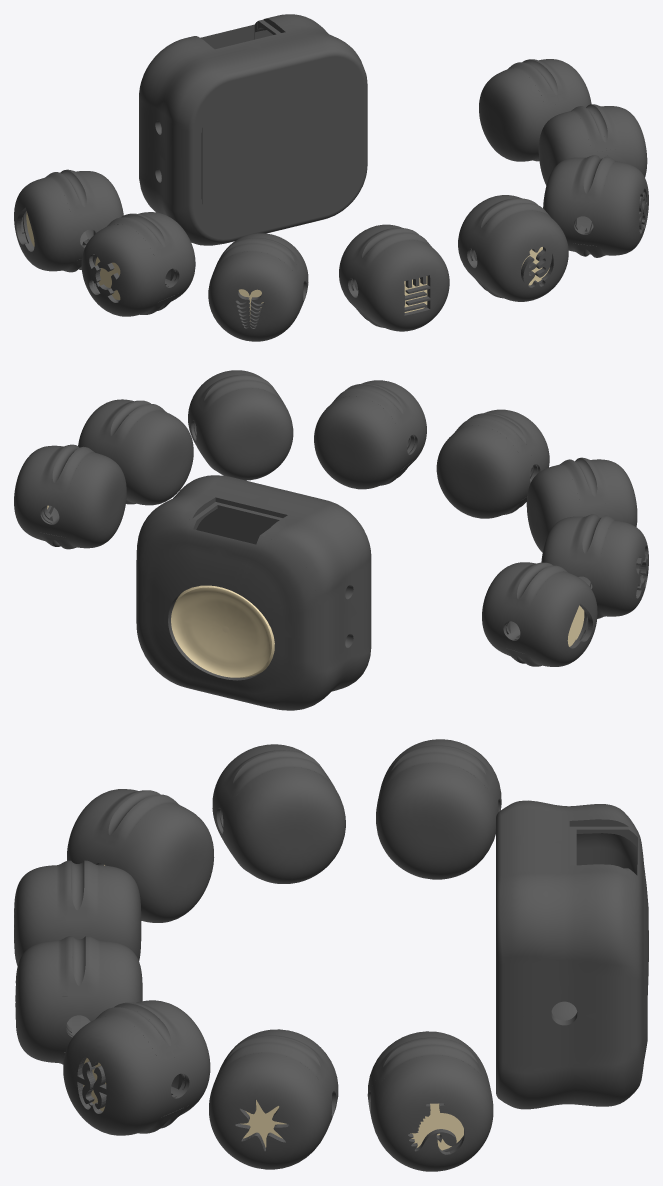
The model's file is bracelet_threaded.glb.
3 views of the same model, one above another, from view 1: azimuth 30°, elevation 25°; view 2: azimuth 150°, elevation 25°; view 3: azimuth 270°, elevation 25° (orthographic). The views are drawn at different scales.
Visible parts, largest first — view 1: HUB_BASE, FB_CAP:2, FB_CAP:5, FB_CAP:3, FB_CAP:1, FB_BASE:7, FB_CAP, FB_CAP:4, FB_BASE:4, FB_BASE:6, FB_BASE:1, FB_CAP:6 (+6 smaller); view 2: HUB_TOP, HUB_BASE, FB_BASE:4, FB_BASE:3, FB_BASE:5, BASIN_SWITCH, FB_BASE:6, FB_CAP, FB_BASE:7, FB_CAP:1, FB_BASE:2, FB_CAP:7 (+7 smaller); view 3: HUB_BASE, FB_BASE:1, FB_BASE, FB_CAP:6, FB_CAP:7, FB_CAP:4, FB_BASE:2, FB_CAP:3, FB_CAP:5, FB_BASE:5, HUB_TOP, FB_BASE:3 (+8 smaller).
Boxes of the visible parts, x1=… form: HUB_BASE: x1=139, y1=14, x2=367, y2=245; FB_CAP:2: x1=208, y1=243, x2=303, y2=341; FB_CAP:5: x1=354, y1=232, x2=449, y2=331; FB_CAP:3: x1=473, y1=203, x2=568, y2=301; FB_CAP:1: x1=81, y1=217, x2=171, y2=316; FB_BASE:7: x1=479, y1=62, x2=561, y2=161; FB_CAP: x1=14, y1=172, x2=88, y2=272; FB_CAP:4: x1=584, y1=156, x2=648, y2=257; FB_BASE:4: x1=543, y1=155, x2=600, y2=256; FB_BASE:6: x1=538, y1=106, x2=607, y2=185; FB_BASE:1: x1=121, y1=212, x2=195, y2=310; FB_CAP:6: x1=586, y1=104, x2=647, y2=176; HUB_TOP: x1=136, y1=517, x2=316, y2=708; HUB_BASE: x1=136, y1=475, x2=371, y2=710; FB_BASE:4: x1=194, y1=380, x2=293, y2=480; FB_BASE:3: x1=314, y1=388, x2=414, y2=489; FB_BASE:5: x1=436, y1=417, x2=537, y2=518; BASIN_SWITCH: x1=171, y1=585, x2=274, y2=677; FB_BASE:6: x1=105, y1=404, x2=193, y2=505; FB_CAP: x1=512, y1=565, x2=597, y2=666; FB_BASE:7: x1=41, y1=446, x2=126, y2=549; FB_CAP:1: x1=582, y1=515, x2=648, y2=618; FB_BASE:2: x1=526, y1=459, x2=597, y2=552; FB_CAP:7: x1=14, y1=444, x2=79, y2=546; HUB_BASE: x1=496, y1=800, x2=629, y2=1109; FB_BASE:1: x1=220, y1=757, x2=345, y2=883; FB_BASE: x1=376, y1=752, x2=498, y2=879; FB_CAP:6: x1=209, y1=1042, x2=332, y2=1169; FB_CAP:7: x1=370, y1=1044, x2=493, y2=1171; FB_CAP:4: x1=63, y1=1007, x2=178, y2=1135; FB_BASE:2: x1=96, y1=794, x2=214, y2=922; FB_CAP:3: x1=15, y1=936, x2=78, y2=1064; FB_CAP:5: x1=14, y1=860, x2=77, y2=965; FB_BASE:5: x1=77, y1=860, x2=141, y2=960; HUB_TOP: x1=629, y1=818, x2=648, y2=1096; FB_BASE:3: x1=66, y1=936, x2=142, y2=1036.
Bounding box in the file's own units: 9.36 × 2.89 × 7.24.
